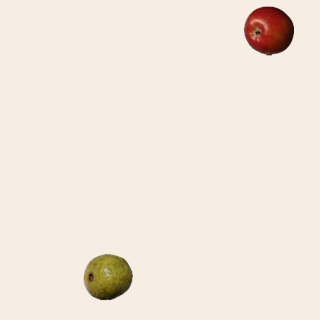Apple Braeburn: (243, 5, 293, 55)
Guava: (82, 251, 132, 301)
